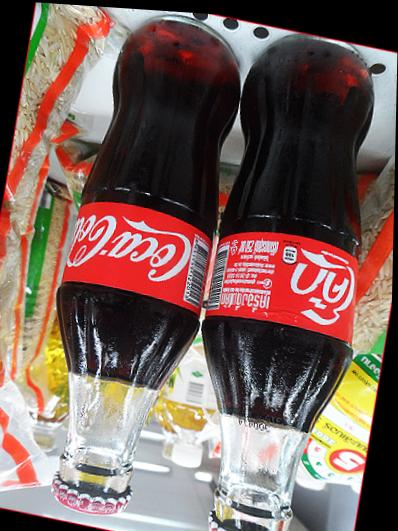glass: (53, 11, 266, 513), (203, 34, 395, 530), (0, 4, 129, 511)
